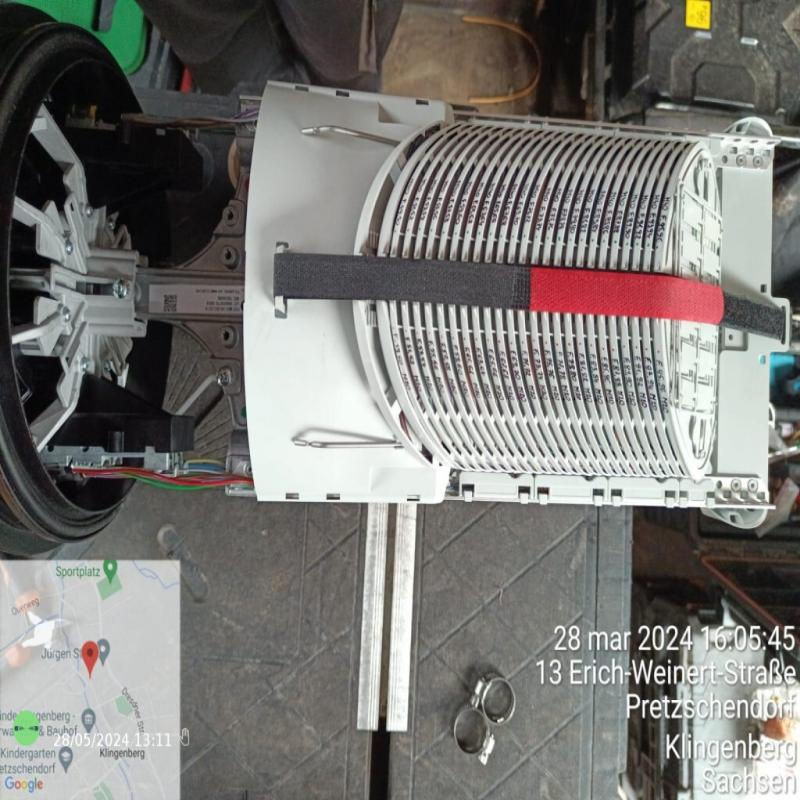NT-Muffen: (0, 3, 797, 544)
